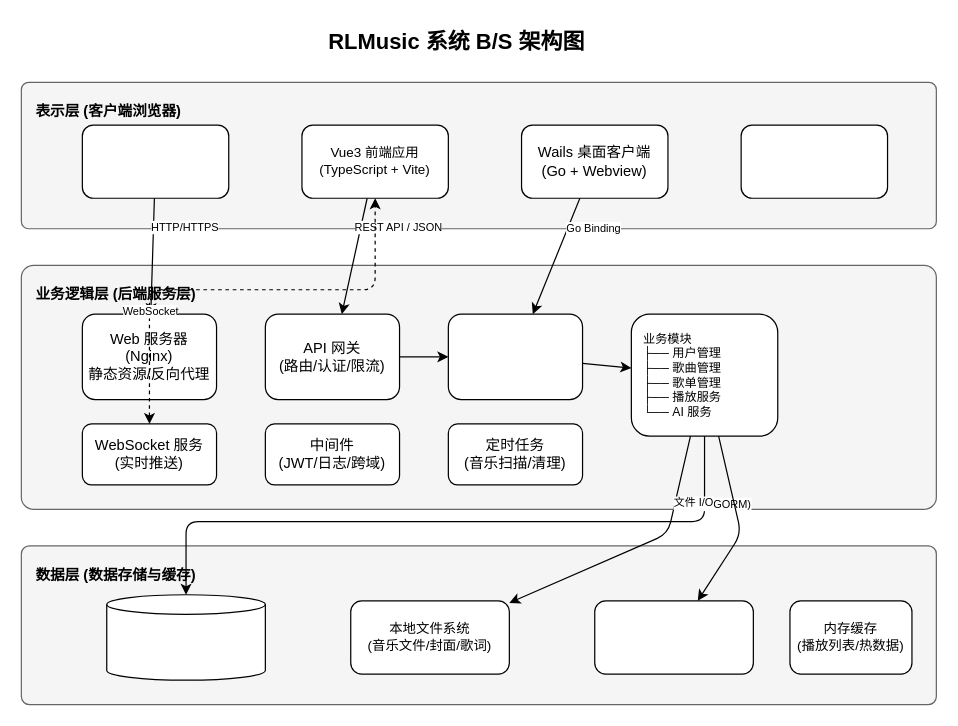
Some shapes in this 958 by 726 pixel diagram are drawn without their labels. Here are the shapes that lost their labels. From the top down, the centre of each, then its label:
[155,161]: Web 浏览器 (Chrome/Firefox/Edge)
[814,161]: 移动端适配 (响应式布局)
[515,356]: Web 框架 (Go/Gin) RESTful API
[185,637]: 关系型数据库 (MySQL/SQLite) 用户/歌曲/歌单数据
[673,637]: 音频处理 (FFmpeg/元数据提取)
